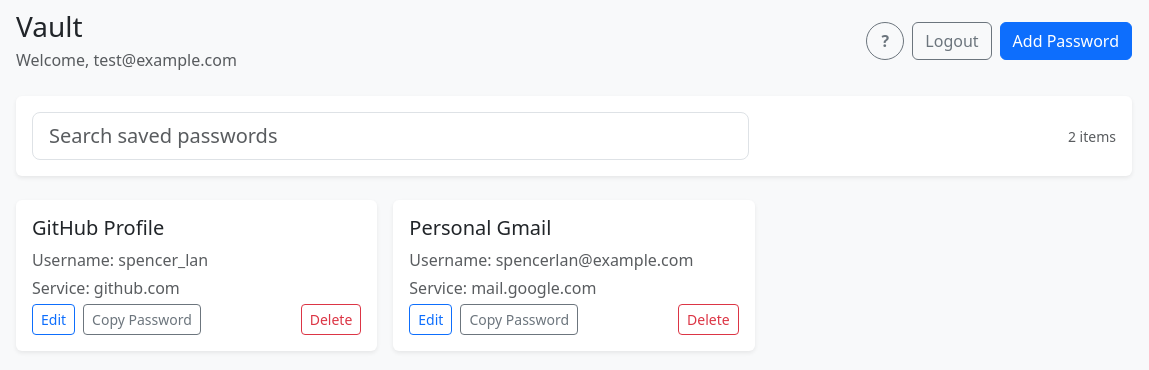
Scenario: DashboardPage Component Tests › filters vault items grid interactively when using search input bar
// Type "Gmail" into the persistent filter engine input
Type "Gmail" into the field with placeholder "Search saved passwords" at (391, 136), box [32,112,749,160]
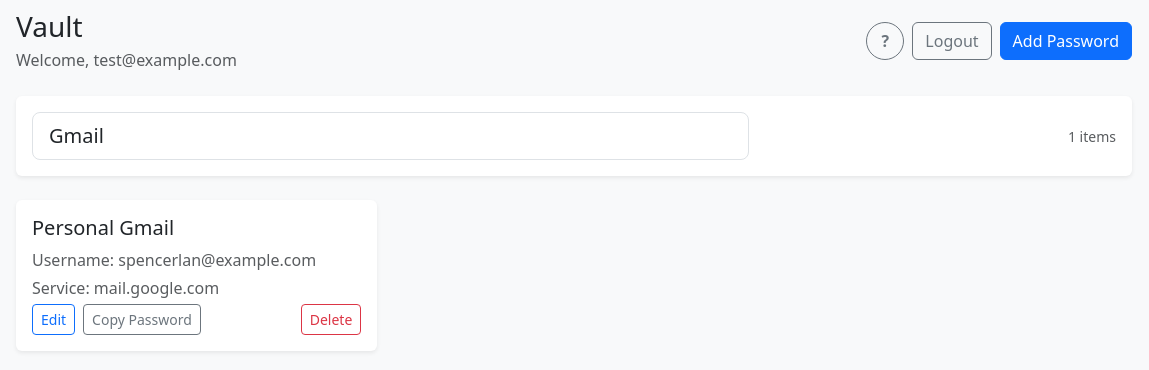
Expected: the heading "Personal Gmail" is shown, [32,216,174,240]
Result: the heading "GitHub Profile" is gone
